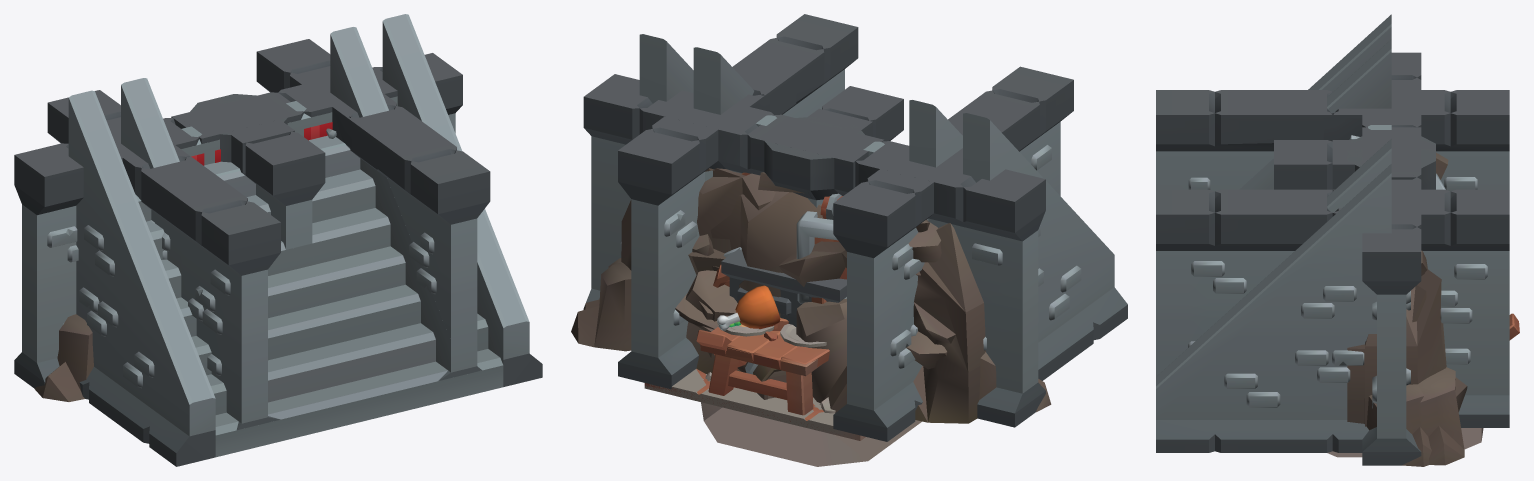
The model's file is kaykit.glb.
The picture shows the model from 3 angles, left to right: view 1: azimuth 30°, elevation 25°; view 2: azimuth 150°, elevation 25°; view 3: azimuth 270°, elevation 25°; orthographic projection. The views are drawn at different scales.
Parts seen in each view (by area): view 1: stairs_wide, stairs_walled, wall_doorway_Tsplit, stairs, wall_doorway_sides, wall_corner, rubble_large, wall_corner_small, wall_pillar, banner_triple_red; view 2: wall_doorway_sides, wall_doorway_Tsplit, rubble_large, stairs_wide, stairs_walled, rubble_half, floor_tile_big_grate, stairs, table_long_decorated_A, floor_foundation_allsides, wall_corner, wall_pillar (+6 smaller); view 3: stairs_wide, stairs_walled, wall_doorway_sides, wall_doorway_Tsplit, rubble_half, stairs, rubble_large, wall_corner, wall_corner_small, wall_pillar, floor_tile_big_grate.
Boxes of the visible parts, <box> form: stairs_wide: <box>68,14,542,466</box>; stairs_walled: <box>135,104,490,430</box>; wall_doorway_Tsplit: <box>14,53,462,388</box>; stairs: <box>121,27,450,414</box>; wall_doorway_sides: <box>47,39,419,274</box>; wall_corner: <box>196,123,325,249</box>; rubble_large: <box>34,314,93,401</box>; wall_corner_small: <box>171,115,294,175</box>; wall_pillar: <box>190,94,287,162</box>; banner_triple_red: <box>191,122,336,165</box>; wall_doorway_sides: <box>618,64,1011,441</box>; wall_doorway_Tsplit: <box>583,59,1045,427</box>; rubble_large: <box>583,172,1051,423</box>; stairs_wide: <box>639,34,1127,380</box>; stairs_walled: <box>742,14,1073,195</box>; rubble_half: <box>571,168,775,373</box>; floor_tile_big_grate: <box>644,384,921,466</box>; stairs: <box>693,47,962,167</box>; table_long_decorated_A: <box>700,285,826,415</box>; floor_foundation_allsides: <box>721,247,846,327</box>; wall_corner: <box>804,86,903,141</box>; wall_pillar: <box>764,117,864,207</box>; stairs_wide: <box>1156,14,1391,452</box>; stairs_walled: <box>1156,90,1362,376</box>; wall_doorway_sides: <box>1274,90,1509,427</box>; wall_doorway_Tsplit: <box>1274,52,1421,465</box>; rubble_half: <box>1364,250,1467,465</box>; stairs: <box>1239,39,1391,212</box>; rubble_large: <box>1347,152,1448,466</box>; wall_corner: <box>1274,125,1363,189</box>; wall_corner_small: <box>1332,127,1421,189</box>; wall_pillar: <box>1347,136,1435,189</box>; floor_tile_big_grate: <box>1327,428,1483,457</box>.
Size of the model in its own units: 8.13 by 6.3 by 6.18.
Materials: 1 (1 with a texture image).
